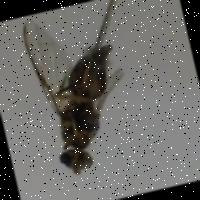Oriental-fruit-fly: (12, 0, 146, 185)
